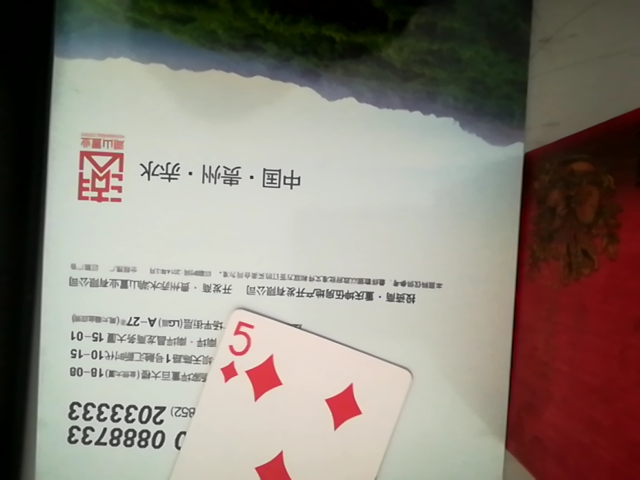fk 5: (97, 296, 415, 479)
